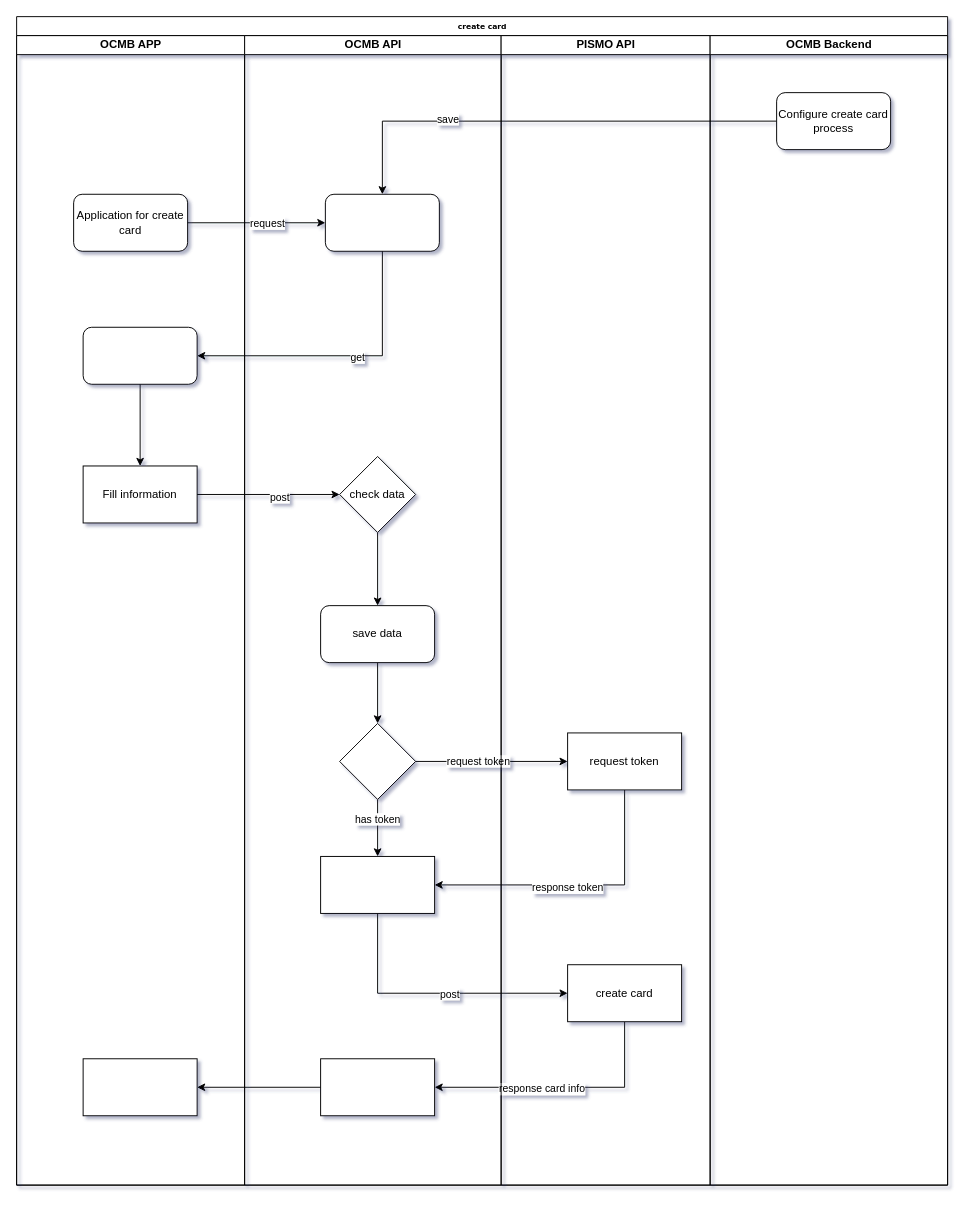
This 970x1207 diagram has some shape labels left out. The centre of each missing label's shape, as x and y in pixels:
Create card page: (139,355)
create card successful: (139,1087)
get response: (377,1087)
get token: (377,884)
read create card configure: (381,222)
Token verification: (377,760)
